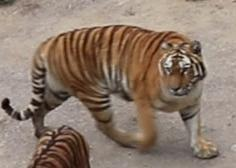tiger: (2, 24, 217, 157)
